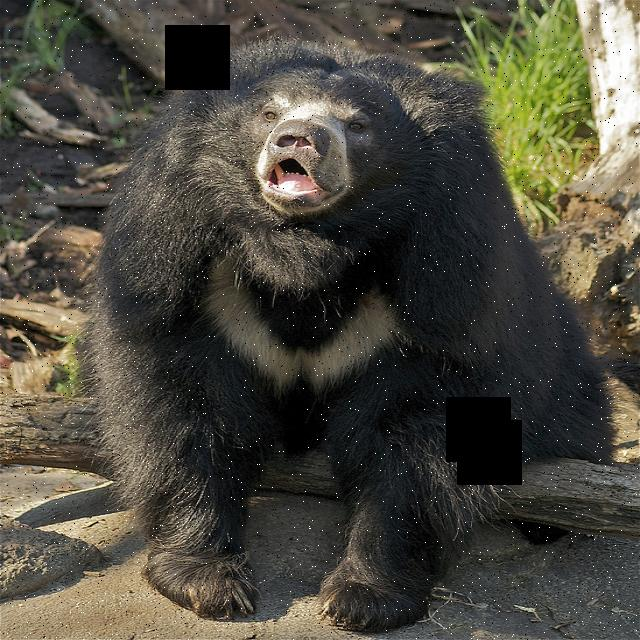Bear: (70, 26, 585, 626)
